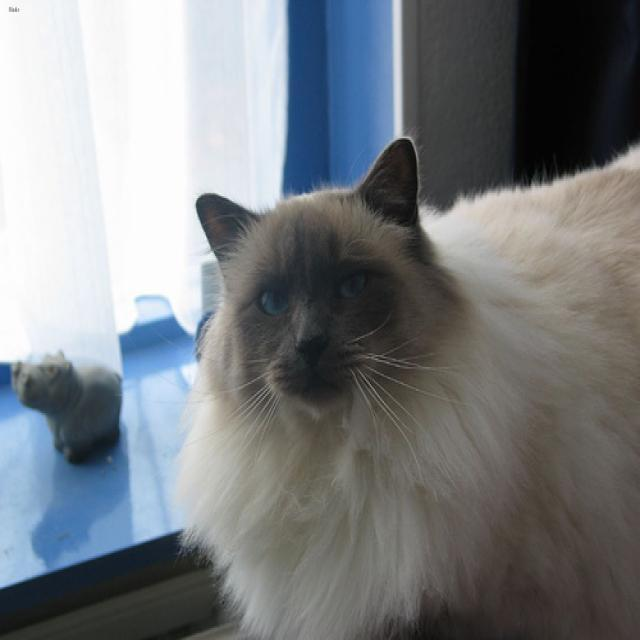Birman: (194, 135, 432, 418)
